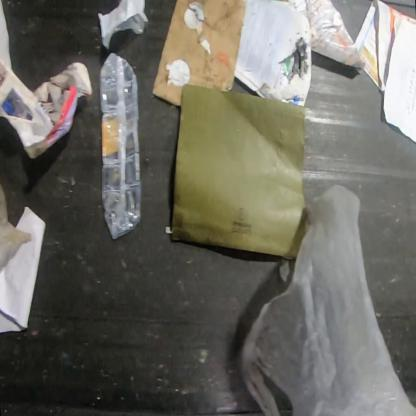cardboard: (171, 83, 311, 260), (152, 0, 249, 107)
rigid_plastic: (100, 53, 142, 240)
soft_plastic: (232, 181, 416, 415), (0, 184, 32, 272)
